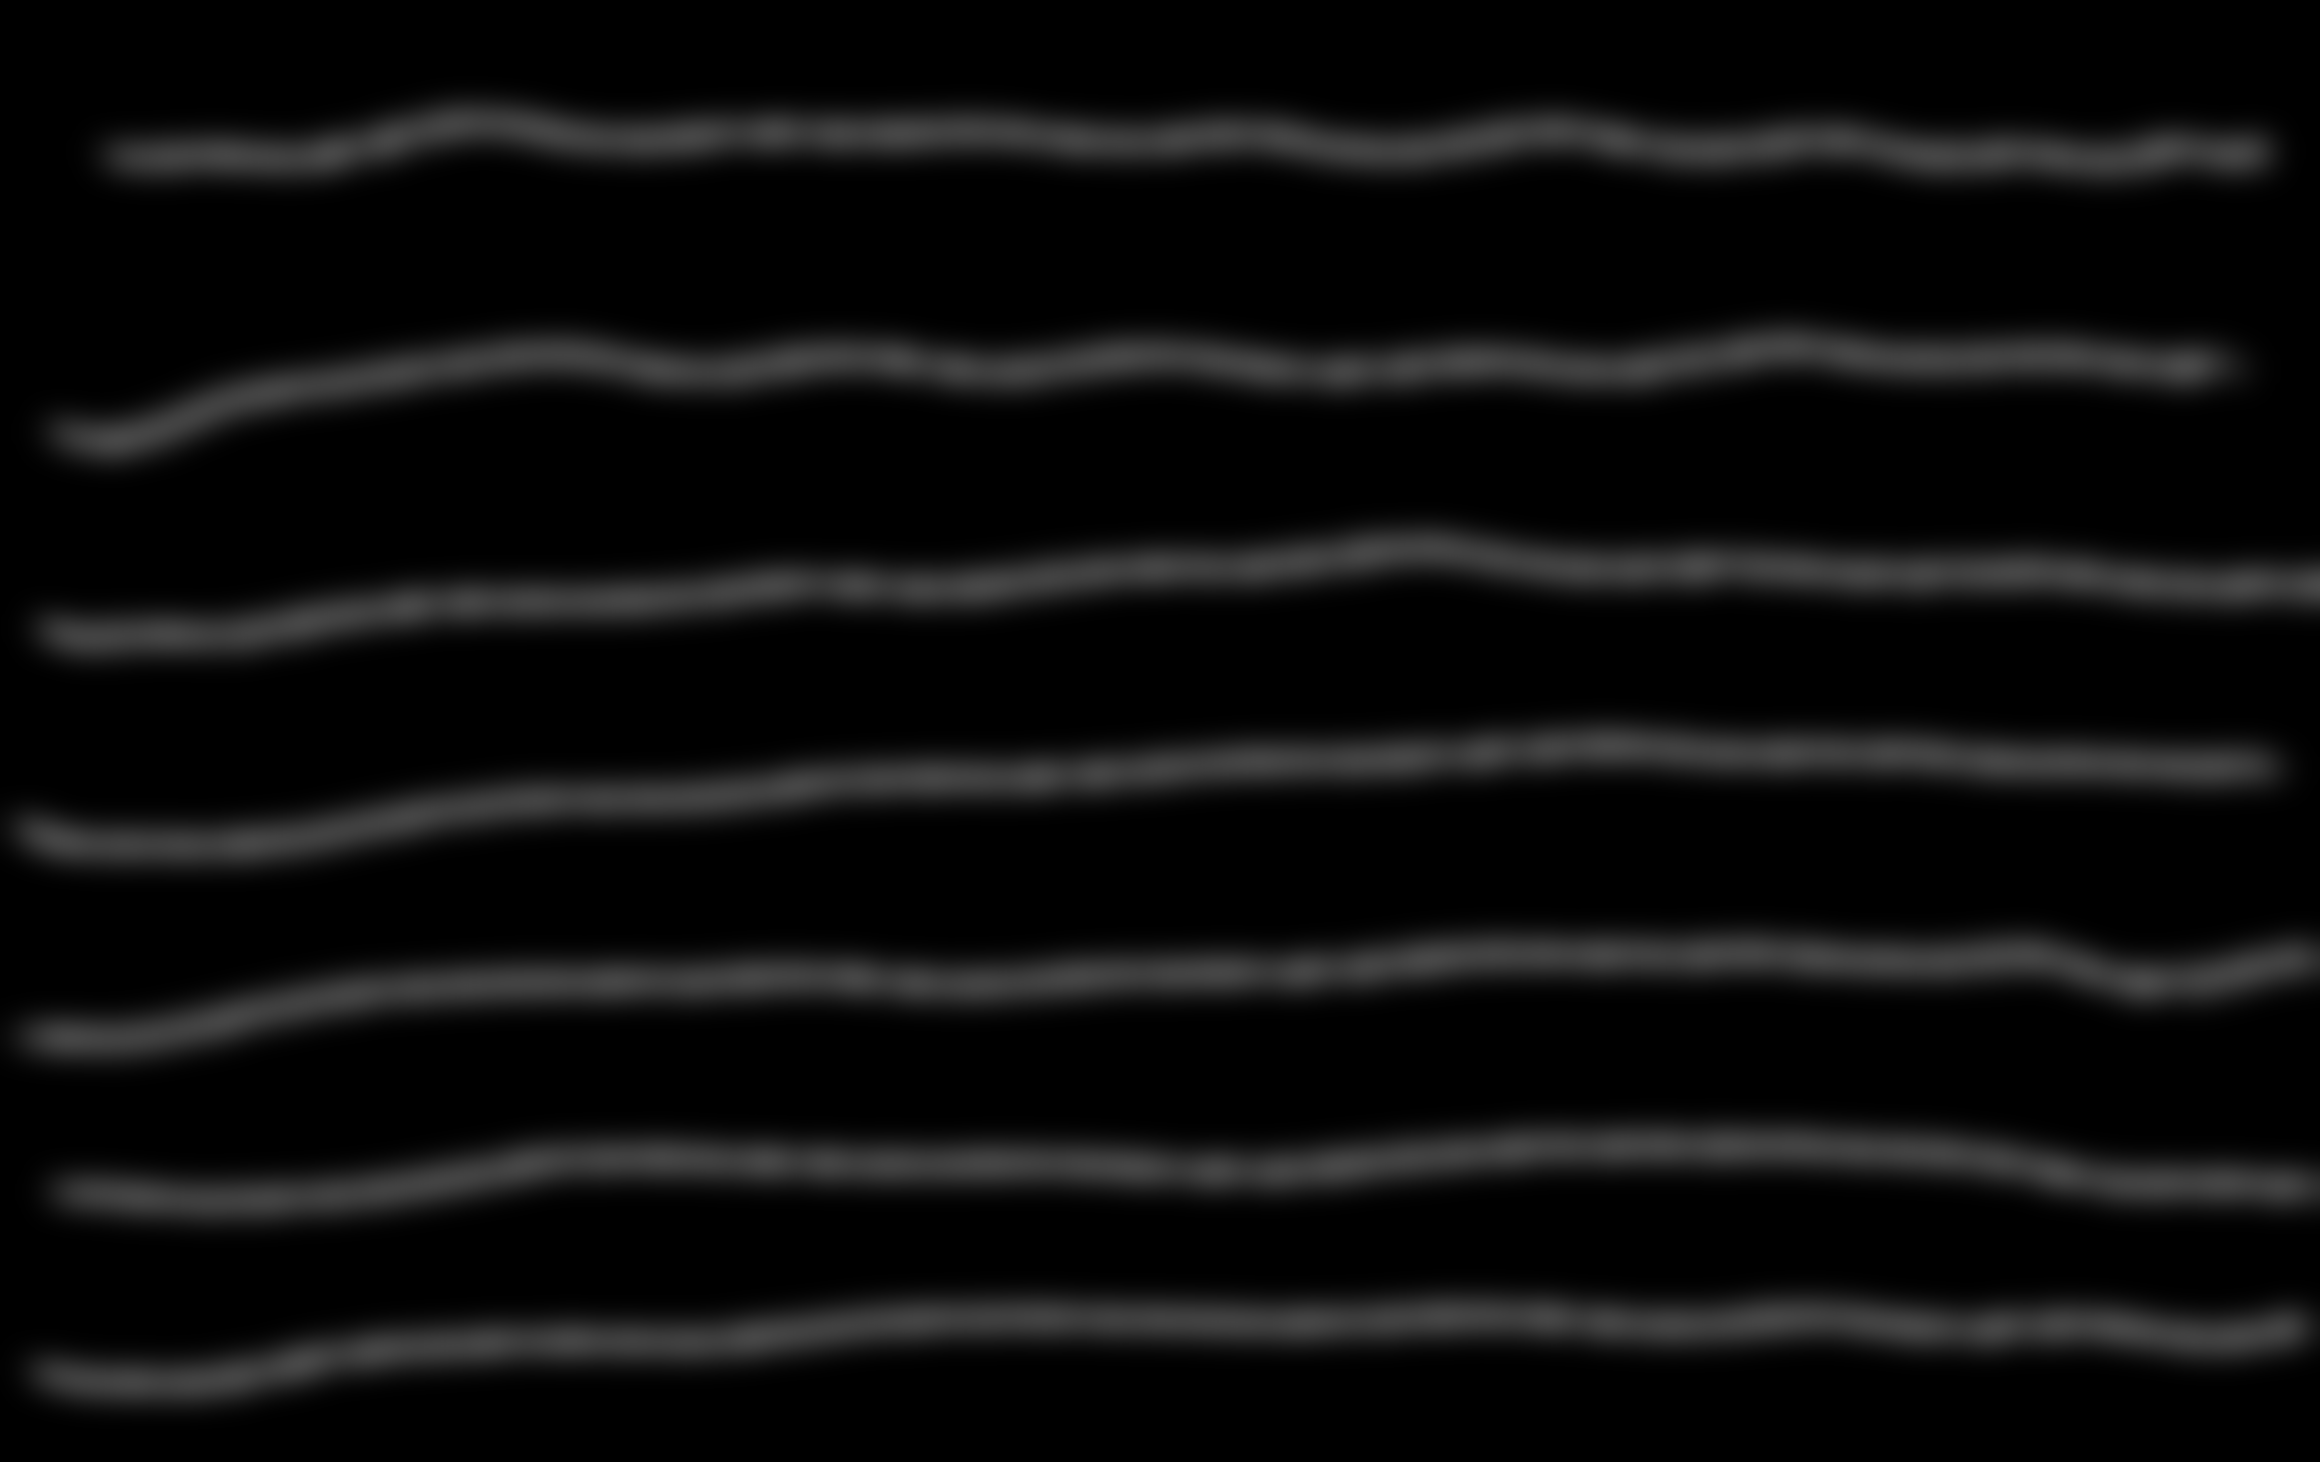Laminar flow: (56, 40, 2305, 1447)
